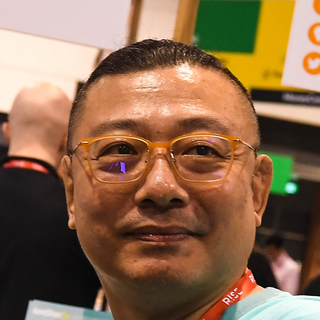eye: (176, 141, 229, 162), (95, 140, 142, 160)
